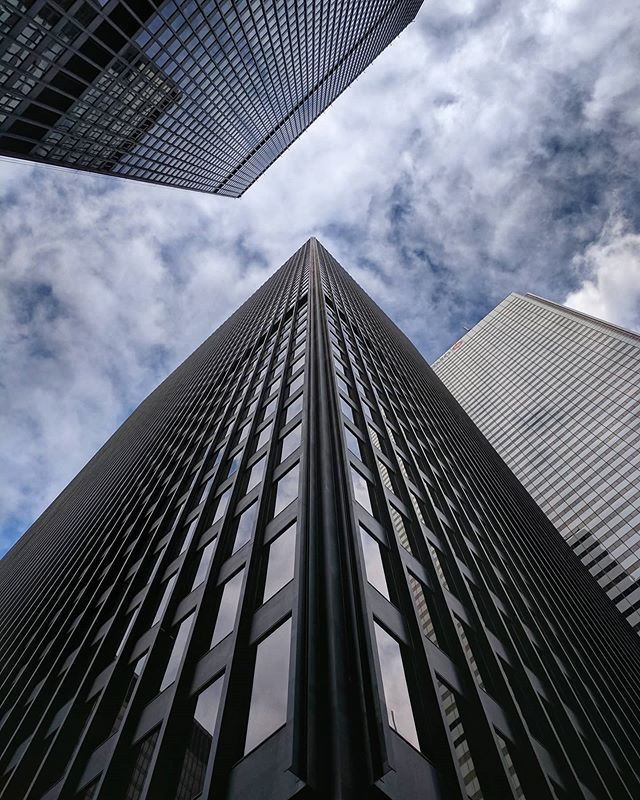building: (42, 311, 640, 800), (1, 1, 439, 194)
sky: (21, 26, 640, 487)
